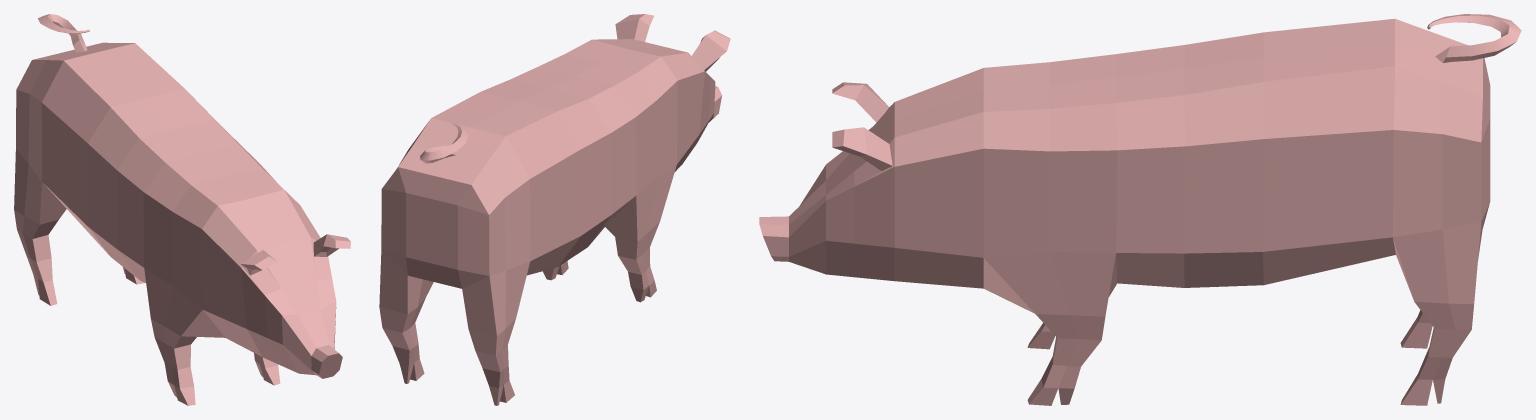
Rendered from pig.fbx.
The picture shows the model from 3 angles, left to right: view 1: azimuth 30°, elevation 25°; view 2: azimuth 150°, elevation 25°; view 3: azimuth 270°, elevation 25°; orthographic projection. The views are drawn at different scales.
Parts seen in each view (by area): view 1: pig_body; view 2: pig_body; view 3: pig_body.
Part boxes in pixels (x1,y1,x2,y2): pig_body: (14,14,350,405); pig_body: (379,14,730,405); pig_body: (759,14,1521,405).
Size of the model in its own units: 1.94 by 4.02 by 7.93.
